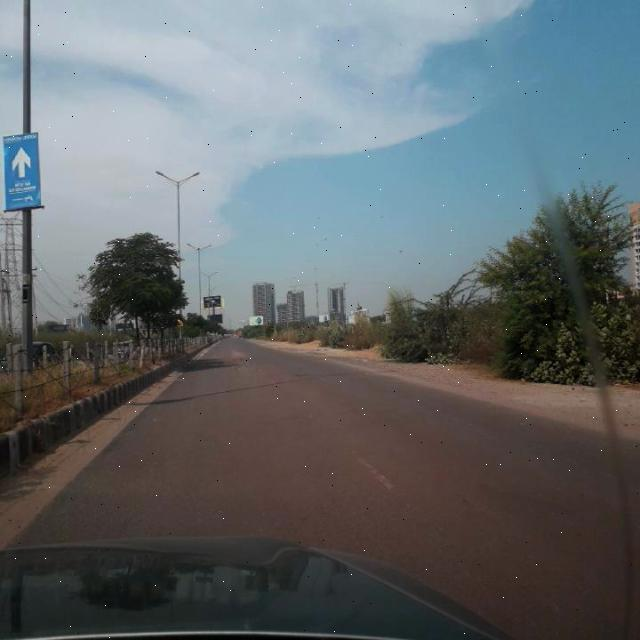D44: (352, 444, 396, 492)
